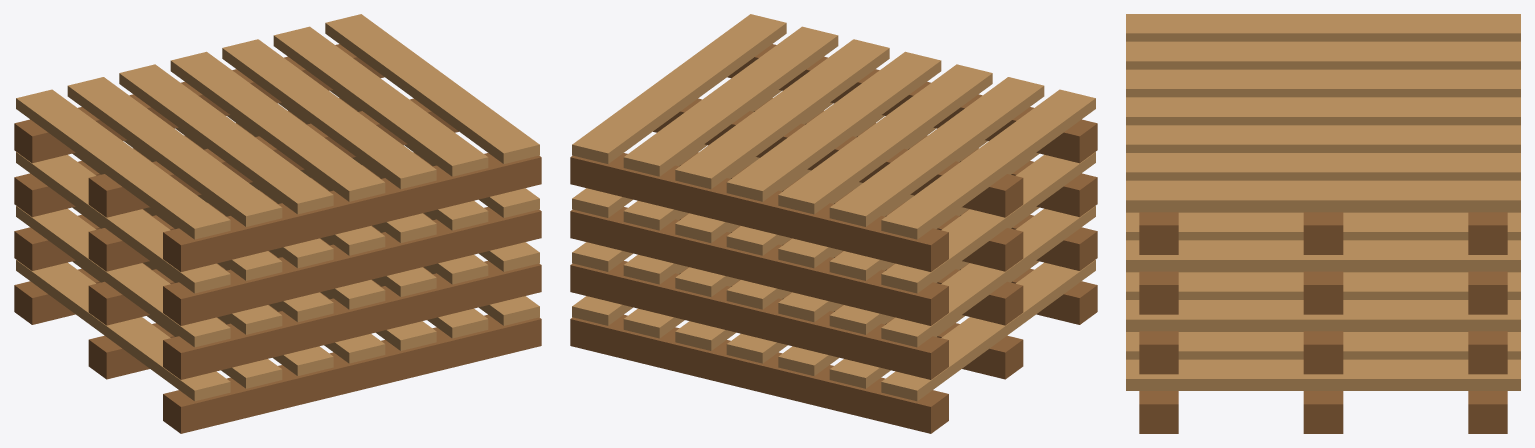
The model's file is pallet-stack.glb.
3 views of the same model, side by side, from view 1: azimuth 30°, elevation 25°; view 2: azimuth 150°, elevation 25°; view 3: azimuth 270°, elevation 25° (orthographic). The views are drawn at different scales.
Parts seen in each view (by area): view 1: pallet-stack; view 2: pallet-stack; view 3: pallet-stack.
Part boxes in pixels (x1,y1,x2,y2): pallet-stack: (14,14,541,433); pallet-stack: (570,14,1097,433); pallet-stack: (1126,14,1520,433).
Bounding box in the file's own units: 1.4 × 0.77 × 1.2.
